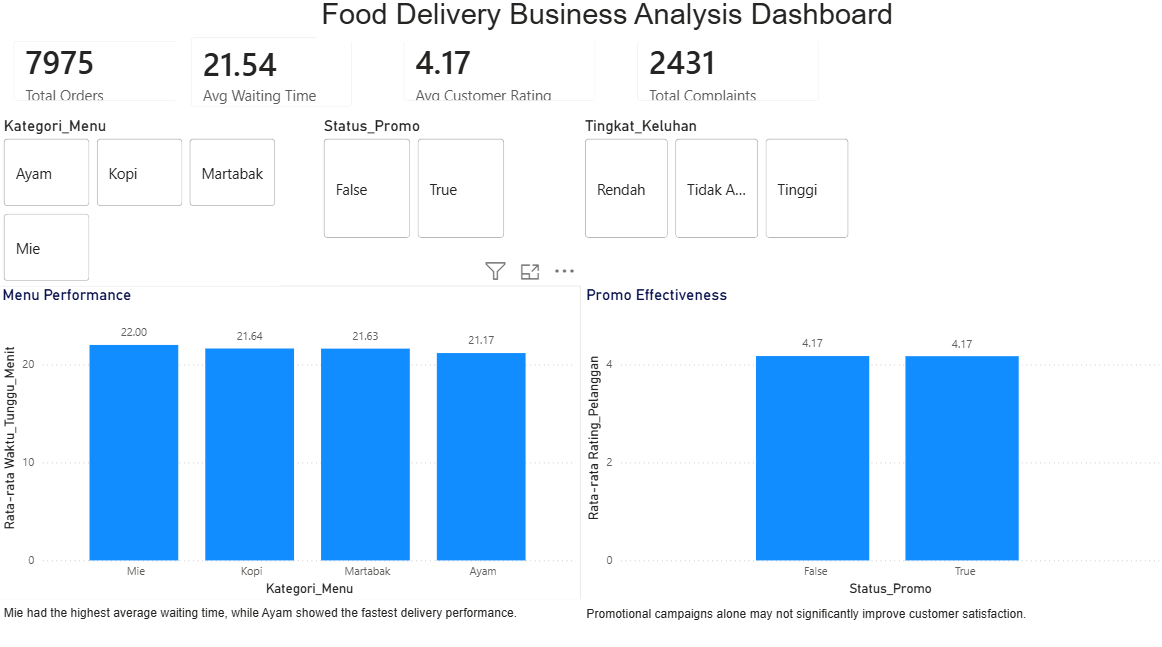

This screenshot's page, from the dashboard's own definition file:
{"tool":"powerbi","page":{"name":"Business Analysis","canvas":[1280,720],"ordinal":1},"visuals":[{"type":"columnChart","title":"Menu Performance","fields":{"Category":["Sheet1.Kategori_Menu"],"Y":["Avg(Sheet1.Waktu_Tunggu_Menit)"]},"box":[0,321.1,639.5,345.8],"z":0},{"type":"clusteredColumnChart","title":"Promo Effectiveness","fields":{"Category":["Sheet1.Status_Promo"],"Y":["Avg(Sheet1.Rating_Pelanggan)"]},"box":[640.8,321.1,639.5,345.8],"z":1000},{"type":"textbox","box":[1.4,665.5,639.5,54.9],"z":2000},{"type":"textbox","box":[640.8,666.9,639.5,53.5],"z":3000},{"type":"cardVisual","fields":{"Data":["Sheet1.Total Orders"]},"box":[0,35.7,216.8,100.2],"z":4000},{"type":"cardVisual","fields":{"Data":["Sheet1.Avg Waiting Time"]},"box":[194.9,31.6,211.3,111.1],"z":5000},{"type":"cardVisual","fields":{"Data":["Sheet1.Avg Customer Rating"]},"box":[428.1,35.7,245.6,100.2],"z":6000},{"type":"cardVisual","fields":{"Data":["Sheet1.Total Complaints"]},"box":[684.7,35.7,234.6,100.2],"z":7000},{"type":"advancedSlicerVisual","fields":{"Values":["Sheet1.Kategori_Menu"]},"box":[1.4,135.8,308.7,185.2],"z":8000},{"type":"advancedSlicerVisual","fields":{"Values":["Sheet1.Status_Promo"]},"box":[352.7,135.8,209.9,138.6],"z":9000},{"type":"advancedSlicerVisual","fields":{"Values":["Sheet1.Tingkat_Keluhan"]},"box":[639.5,135.8,299.1,138.6],"z":10000},{"type":"textbox","box":[349.9,0,646.3,53.5],"z":10001}]}

Visuals, with their boxes in screenshot pixels (x1, y1, x2, y2), scaled from the page's 1280x720 canvas onto the 1162x647 screenshot:
"Menu Performance" columnChart: crop(0, 289, 581, 599)
"Promo Effectiveness" clusteredColumnChart: crop(582, 289, 1161, 599)
textbox: crop(1, 598, 582, 646)
textbox: crop(582, 599, 1161, 646)
cardVisual - Sheet1.Total Orders: crop(0, 32, 197, 122)
cardVisual - Sheet1.Avg Waiting Time: crop(177, 28, 369, 128)
cardVisual - Sheet1.Avg Customer Rating: crop(389, 32, 612, 122)
cardVisual - Sheet1.Total Complaints: crop(622, 32, 835, 122)
advancedSlicerVisual - Sheet1.Kategori_Menu: crop(1, 122, 282, 288)
advancedSlicerVisual - Sheet1.Status_Promo: crop(320, 122, 511, 247)
advancedSlicerVisual - Sheet1.Tingkat_Keluhan: crop(581, 122, 852, 247)
textbox: crop(318, 0, 904, 48)
